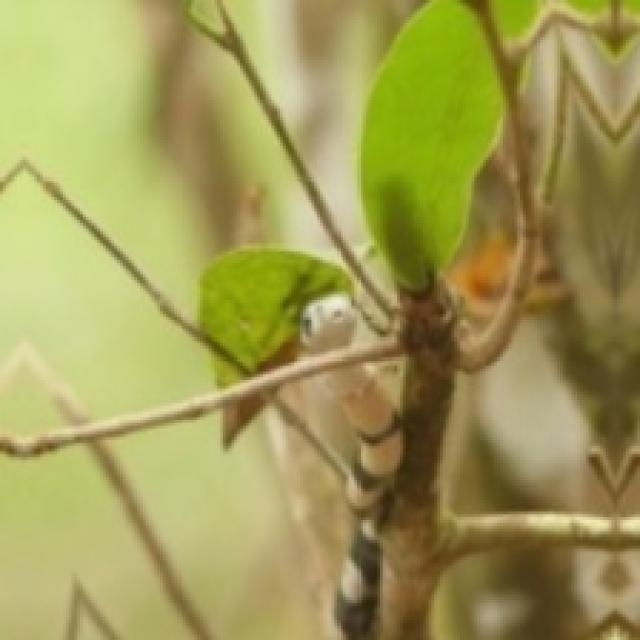king cobra: (326, 366, 400, 637)
